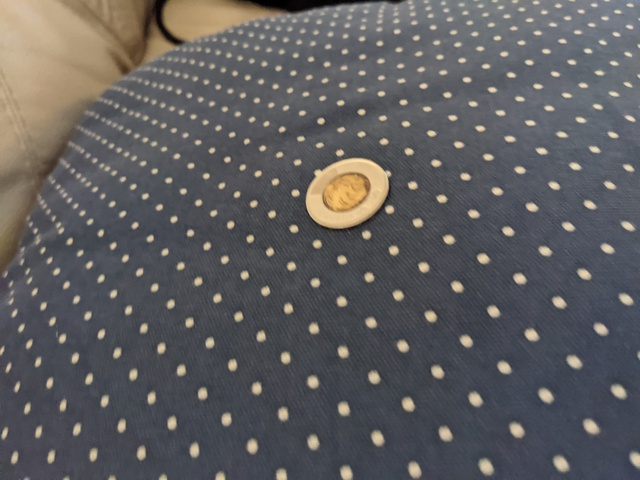twonie: (285, 144, 400, 230)
